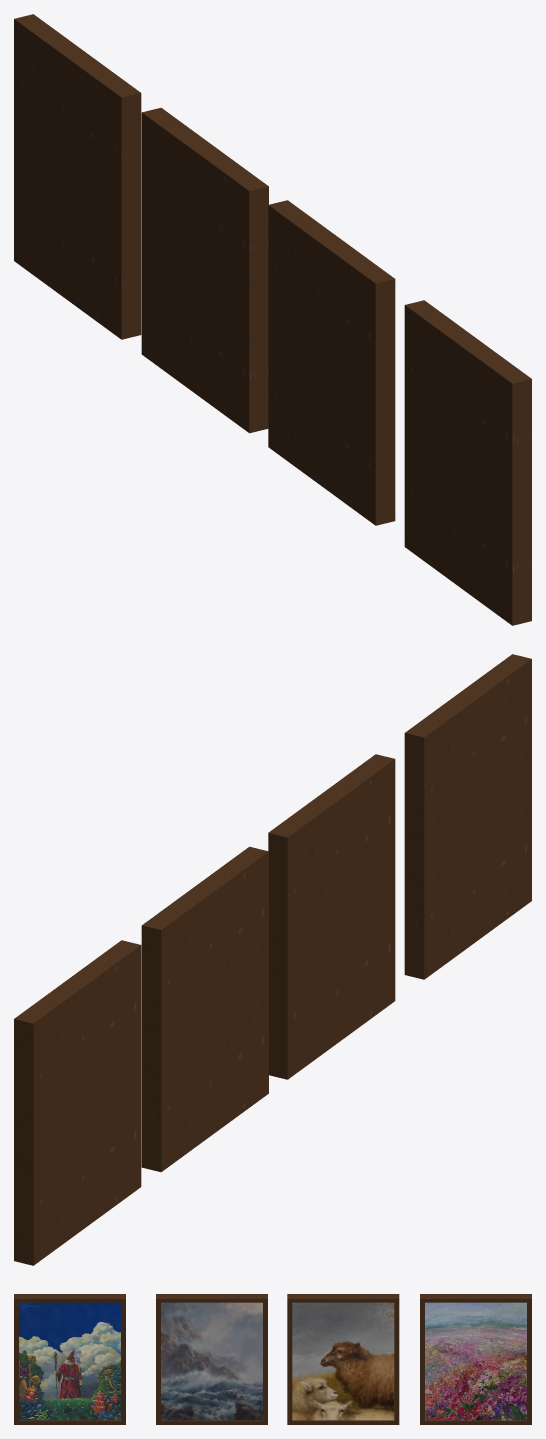
The model's file is painting.fbx.
3 renders of one model, top to bottom at view 1: azimuth 30°, elevation 25°; view 2: azimuth 150°, elevation 25°; view 3: azimuth 270°, elevation 25°, orthographic. The views are drawn at different scales.
Parts seen in each view (by area): view 1: Cube, Cube.003, Cube.001, Cube.002; view 2: Cube, Cube.003, Cube.002, Cube.001; view 3: Plane.002, Plane, Plane.001, Plane.003, Cube.002, Cube, Cube.001, Cube.003.
Boxes of the visible parts, x1=… form: Cube: x1=404, y1=300, x2=531, y2=625; Cube.003: x1=14, y1=14, x2=141, y2=339; Cube.001: x1=268, y1=200, x2=395, y2=525; Cube.002: x1=141, y1=107, x2=268, y2=433; Cube: x1=404, y1=654, x2=531, y2=979; Cube.003: x1=14, y1=940, x2=141, y2=1265; Cube.002: x1=141, y1=846, x2=268, y2=1172; Cube.001: x1=268, y1=754, x2=395, y2=1079; Plane.002: x1=292, y1=1302, x2=394, y2=1420; Plane: x1=19, y1=1302, x2=120, y2=1420; Plane.001: x1=161, y1=1302, x2=262, y2=1420; Plane.003: x1=425, y1=1302, x2=526, y2=1420; Cube.002: x1=287, y1=1294, x2=399, y2=1424; Cube: x1=14, y1=1294, x2=125, y2=1424; Cube.001: x1=156, y1=1294, x2=267, y2=1424; Cube.003: x1=420, y1=1294, x2=531, y2=1424.
Size of the model in its own units: 84.29 by 998 by 3724.
